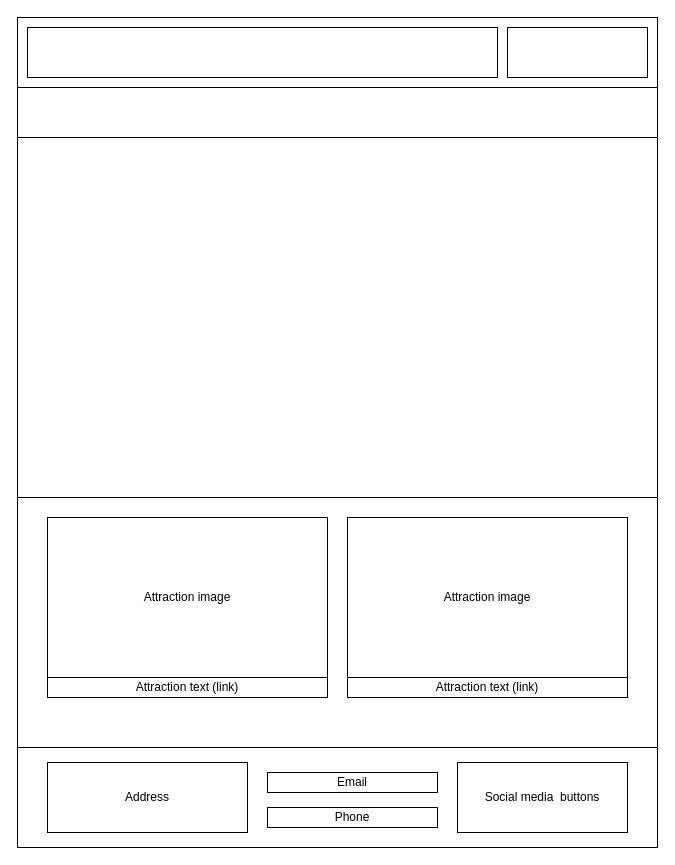
This 675x865 diagram has some shape labels left out. The shapes that lost their labels are listed below. From the top down, each one's centre as x and y in pixels, then its label:
point 262,52: Logo
point 577,52: Buy tickets button
point 337,112: Navigation
point 337,317: Large image with text and link areas
